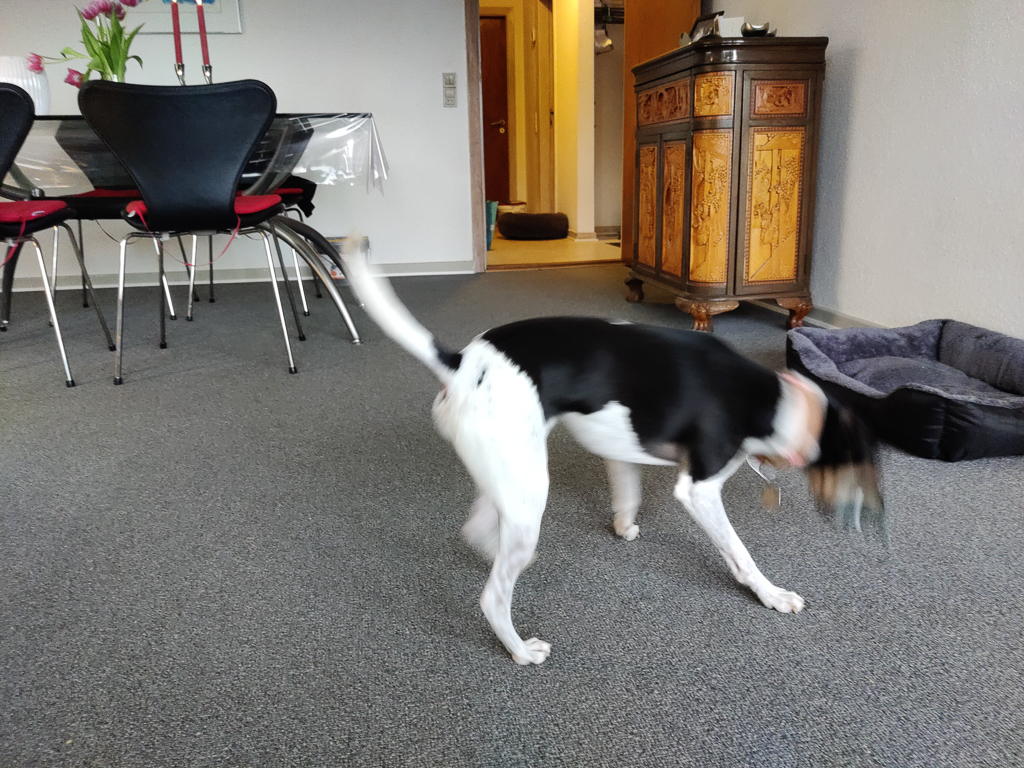Dog: (312, 220, 921, 684)
Humanoid: (805, 458, 904, 548)
